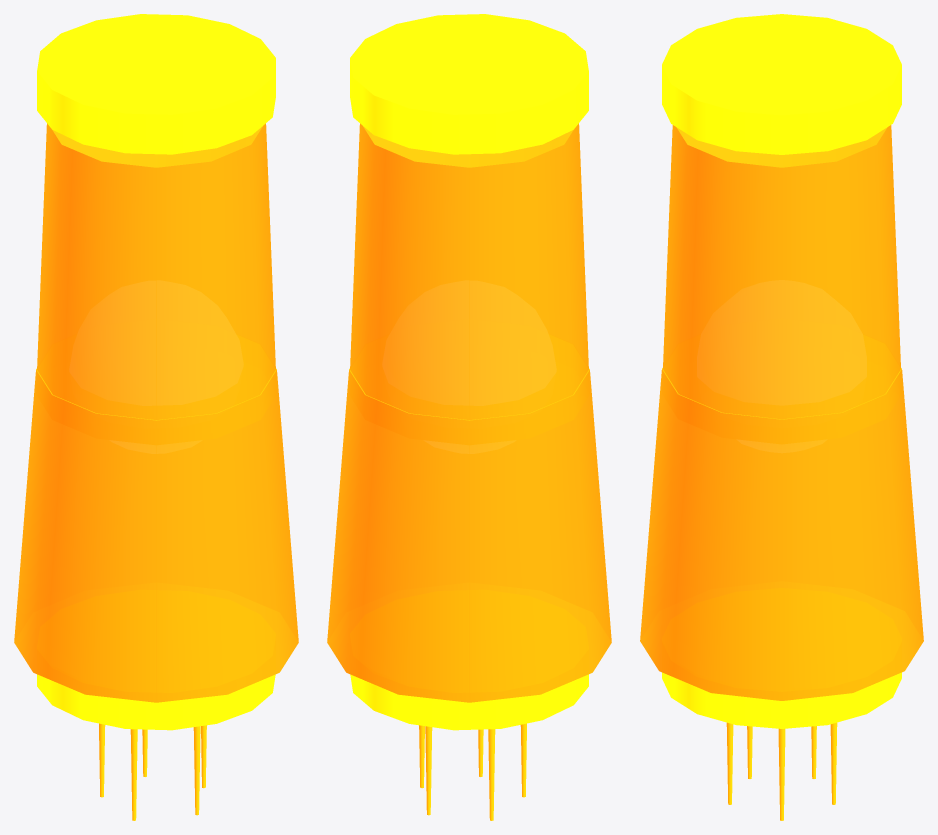
Rendered from lantern.glb.
The picture shows the model from 3 angles, left to right: view 1: azimuth 30°, elevation 25°; view 2: azimuth 150°, elevation 25°; view 3: azimuth 270°, elevation 25°; orthographic projection.
Visible parts, largest first — view 1: lower_body, upper_body, top_cap, bot_cap, tassel_2, tassel_1; view 2: lower_body, upper_body, top_cap, bot_cap, tassel_3, tassel_4; view 3: lower_body, upper_body, top_cap, bot_cap, tassel_0.
Part boxes in pixels (x1,y1,x2,y2): lower_body: [14, 368, 298, 702]; upper_body: [37, 123, 275, 419]; top_cap: [37, 14, 275, 154]; bot_cap: [37, 674, 275, 730]; tassel_2: [130, 729, 137, 820]; tassel_1: [193, 726, 200, 815]; lower_body: [327, 368, 611, 702]; upper_body: [350, 123, 588, 419]; top_cap: [350, 14, 588, 154]; bot_cap: [350, 674, 588, 730]; tassel_3: [488, 729, 495, 820]; tassel_4: [425, 726, 432, 815]; lower_body: [640, 368, 923, 700]; upper_body: [663, 125, 900, 419]; top_cap: [662, 14, 901, 154]; bot_cap: [662, 672, 901, 728]; tassel_0: [778, 728, 785, 820].
Size of the model in its own units: 0.52 by 1.48 by 0.52.
